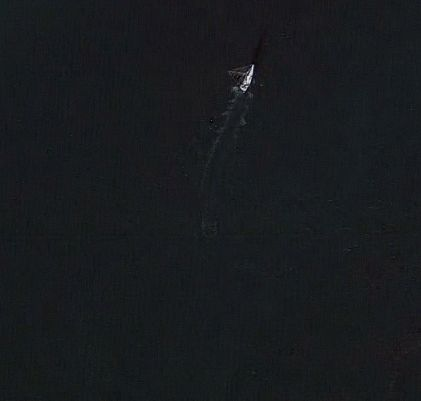boat: (232, 61, 264, 98)
